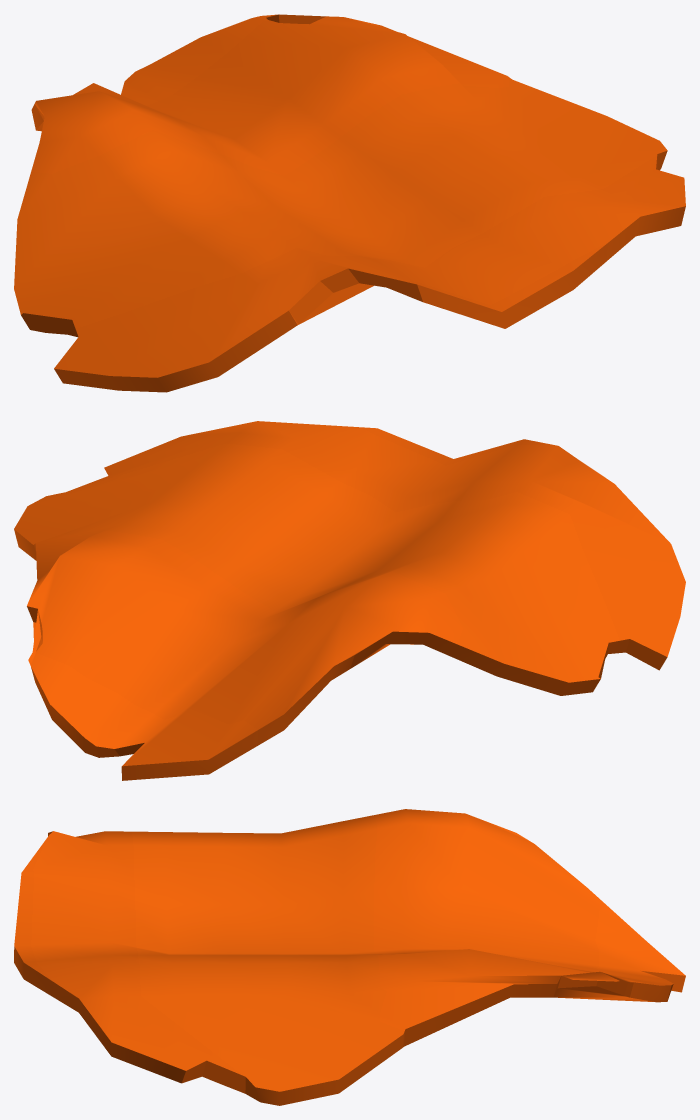
The model's file is BasicLeaf_TigerOrange.obj.
The picture shows the model from 3 angles, top to bottom: view 1: azimuth 30°, elevation 25°; view 2: azimuth 150°, elevation 25°; view 3: azimuth 270°, elevation 25°; orthographic projection. The views are drawn at different scales.
Visible parts, largest first — view 1: BasicLeaf_TigerOrange; view 2: BasicLeaf_TigerOrange; view 3: BasicLeaf_TigerOrange.
Boxes of the visible parts, x1,y1,x2,y2 form: BasicLeaf_TigerOrange: (14,14,685,392); BasicLeaf_TigerOrange: (14,421,685,780); BasicLeaf_TigerOrange: (14,809,685,1105).
Bounding box in the file's own units: 6.78 × 1.4 × 6.94.
